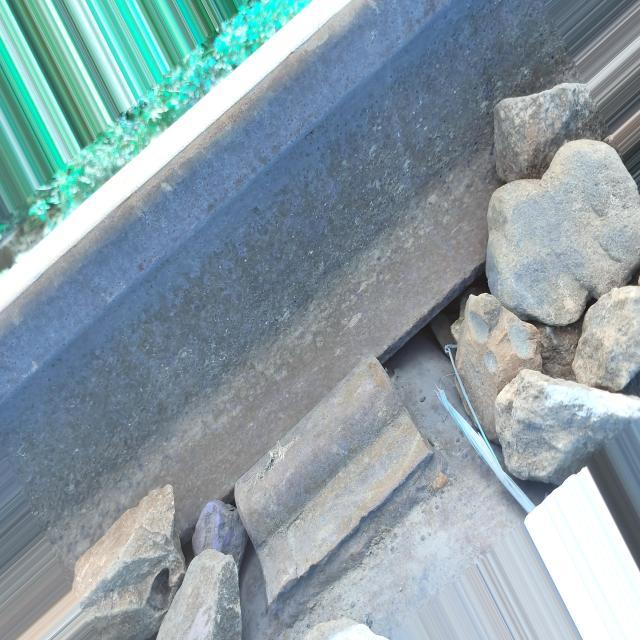Good Fasteners: (216, 326, 470, 632)
